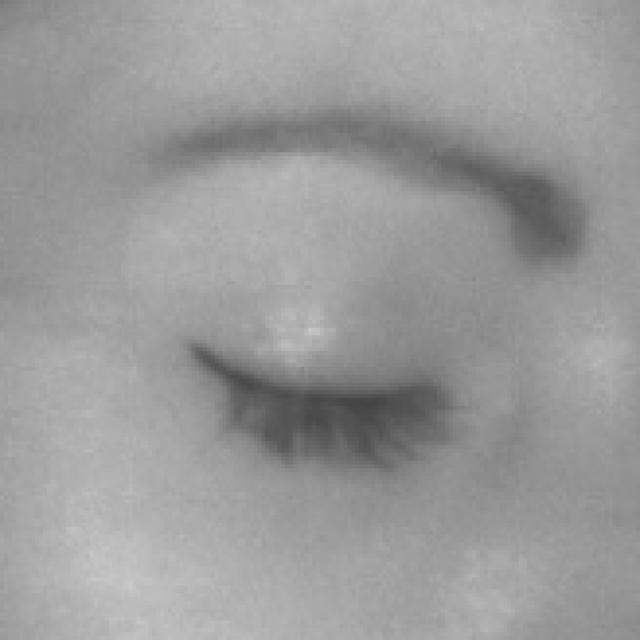close: (64, 83, 612, 567)
